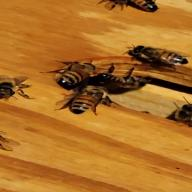Bee: (125, 41, 192, 75), (62, 77, 111, 120), (48, 57, 104, 86)
